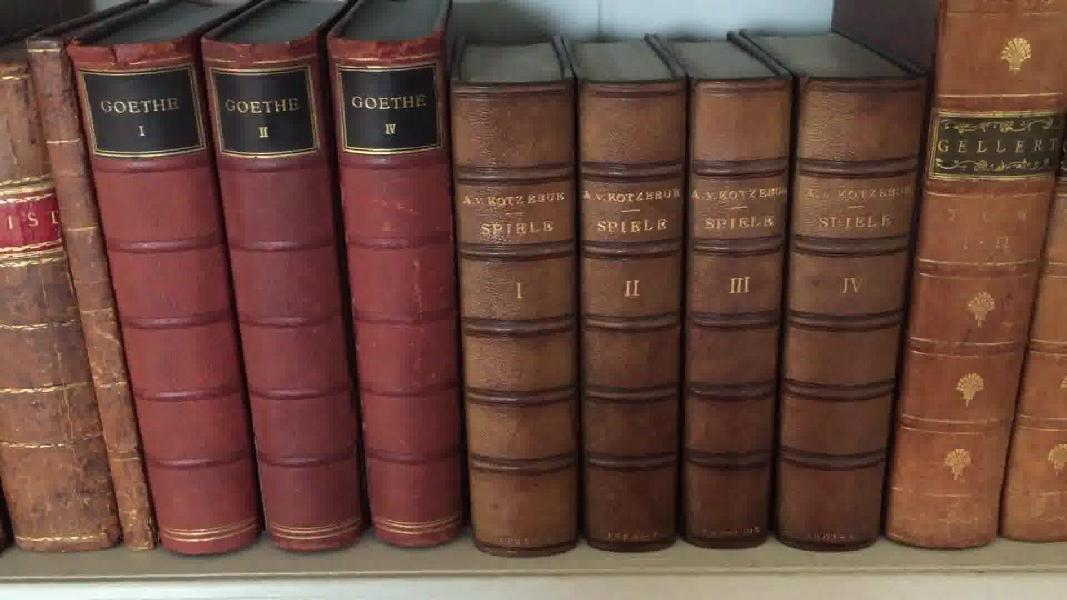Aa6-11_13: (63, 40, 482, 561)
Aa6-14_17: (448, 66, 939, 584)
